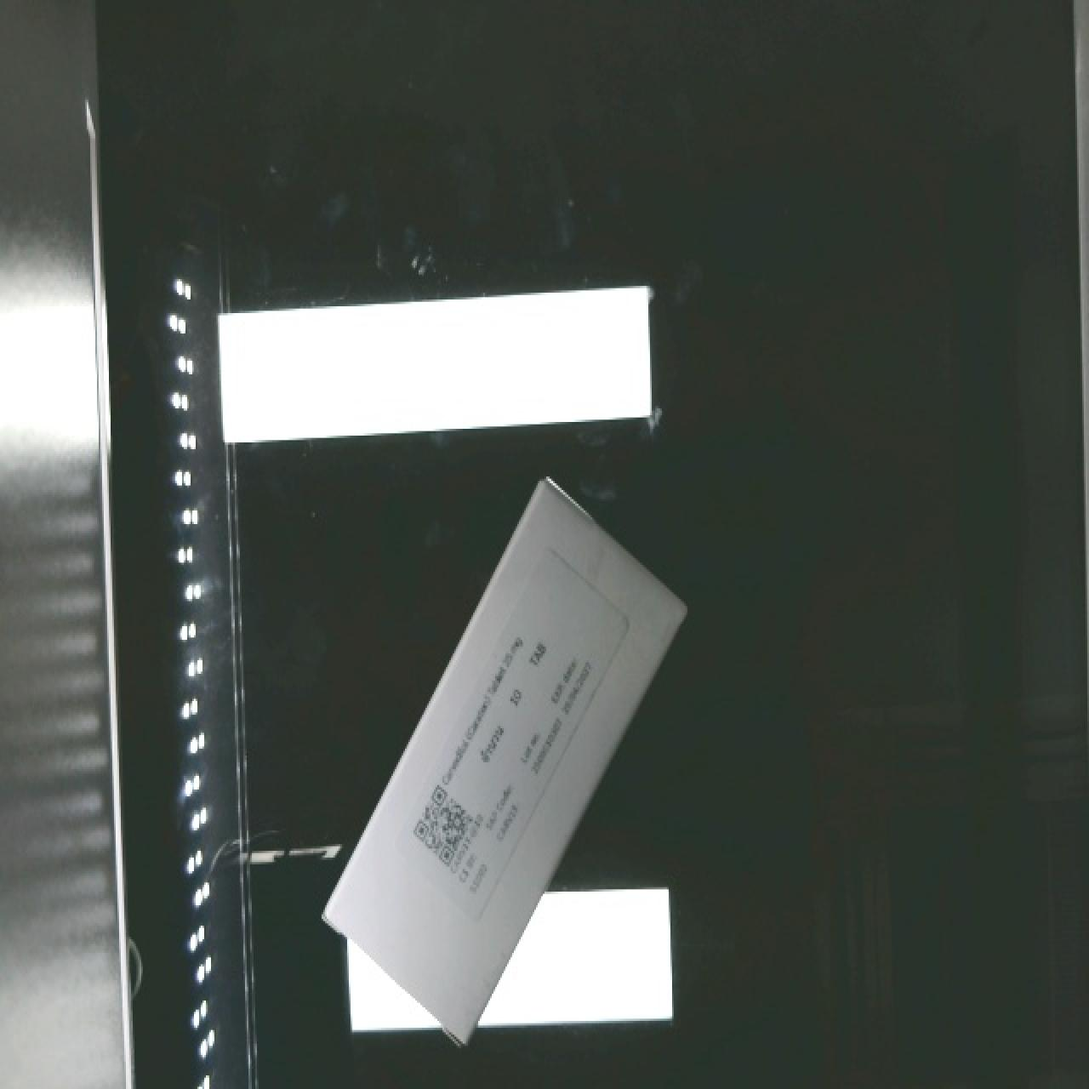qr_code: (392, 771, 497, 882)
